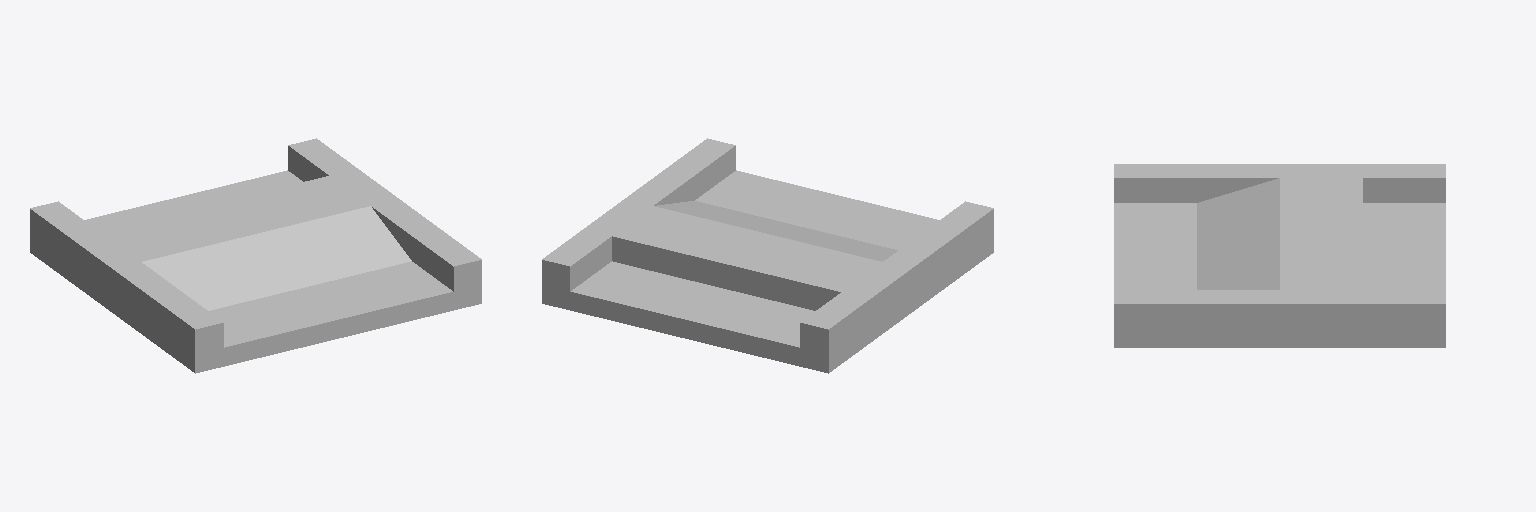
Rendered from Ramp_square_01.obj.
The picture shows the model from 3 angles: view 1: azimuth 30°, elevation 25°; view 2: azimuth 150°, elevation 25°; view 3: azimuth 270°, elevation 25°; orthographic projection.
Visible parts, largest first — view 1: Mesh1 Ramp_square Model; view 2: Mesh1 Ramp_square Model; view 3: Mesh1 Ramp_square Model.
Boxes of the visible parts, x1,y1,x2,y2 form: Mesh1 Ramp_square Model: [30, 138, 481, 373]; Mesh1 Ramp_square Model: [542, 138, 993, 373]; Mesh1 Ramp_square Model: [1114, 164, 1445, 347].
Size of the model in its own units: 3 by 0.44 by 3.